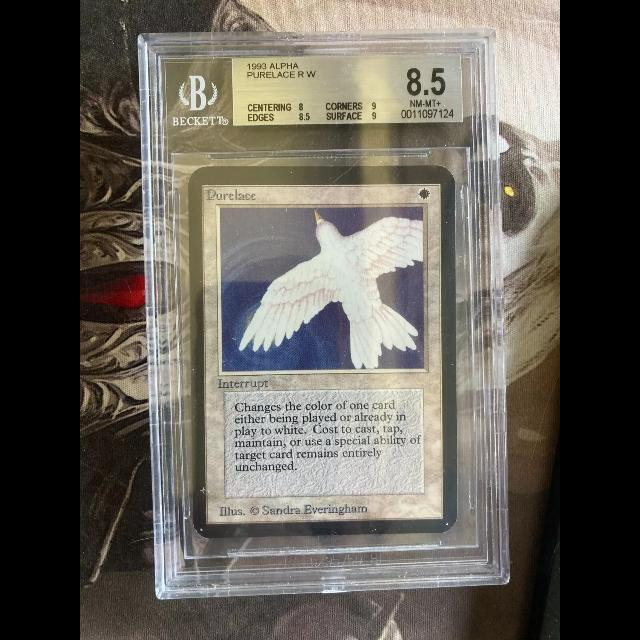bgs_label: (232, 54, 463, 126)
bgs_slab: (137, 30, 513, 602)
card: (188, 166, 458, 538)
